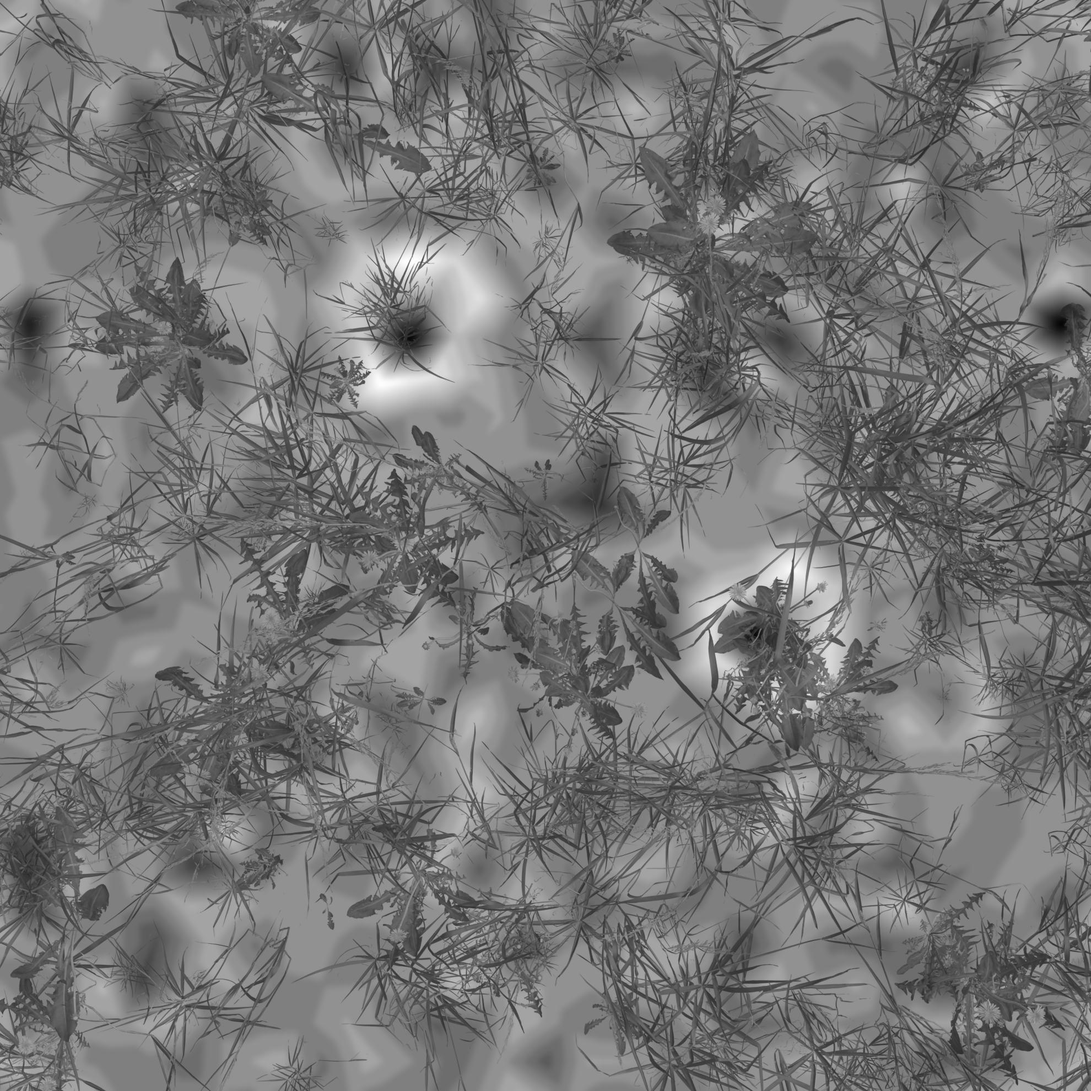landmine: (347, 278, 465, 398)
